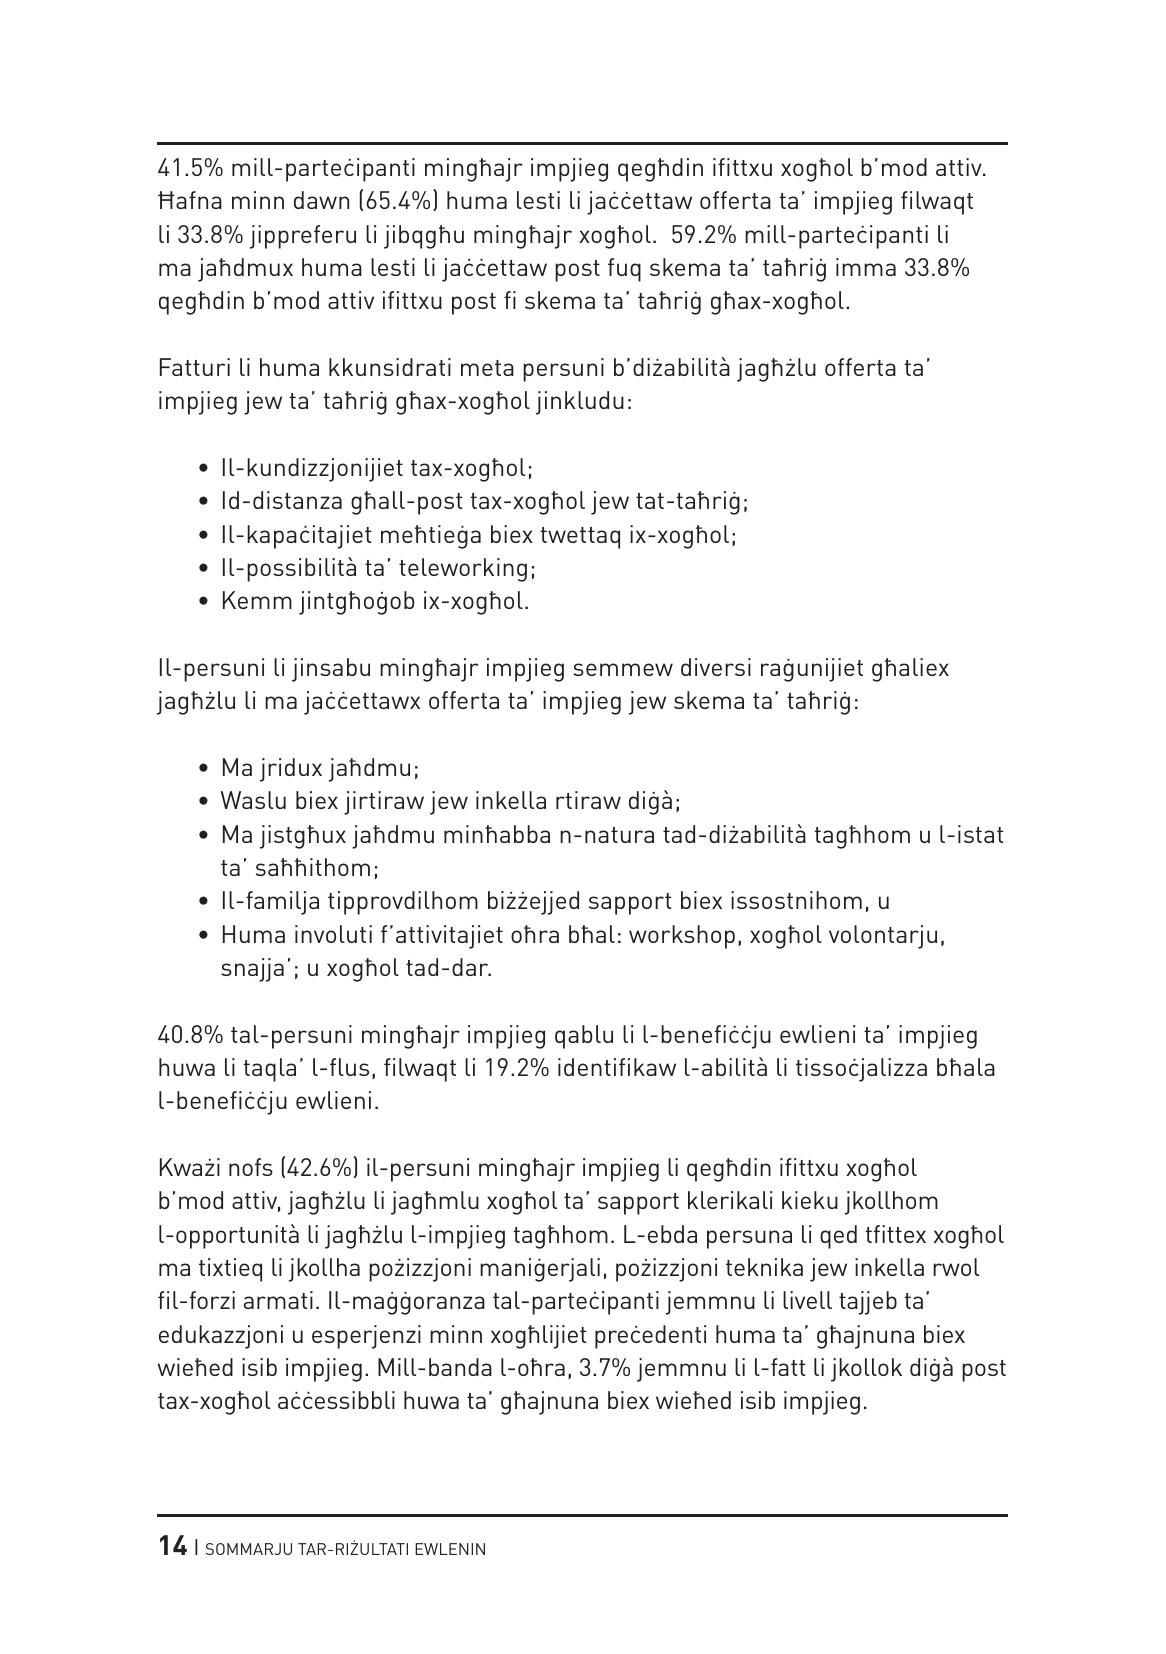text: (150, 150, 1016, 1450)
